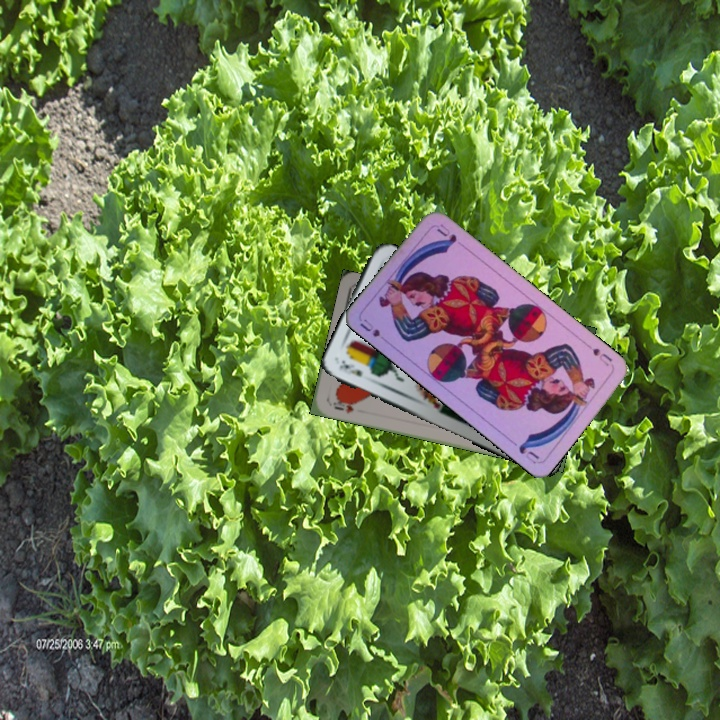EK: (335, 358, 365, 379)
HO: (329, 395, 359, 416)
SU: (356, 314, 392, 346), (581, 339, 615, 369)
